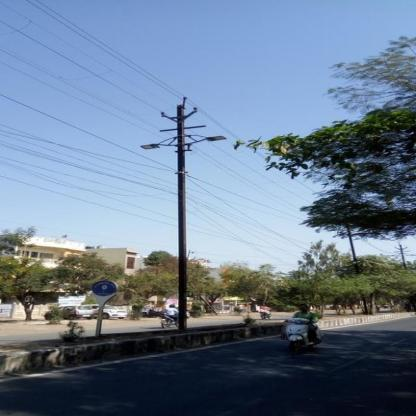Electrical Pole: (135, 92, 230, 332)
